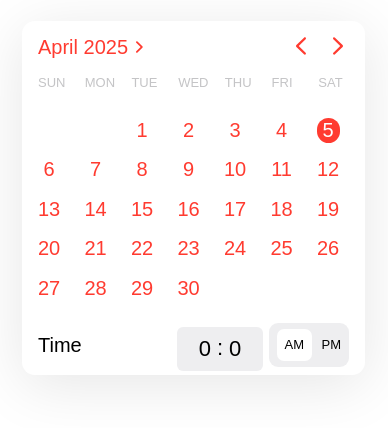
Test: Calendar › Should changeMonth with value === prev when user click to prev month
This screenshot has width=388, height=428.
Click the button with test id "prev-month" at (301, 47), box [290,36,312,59]
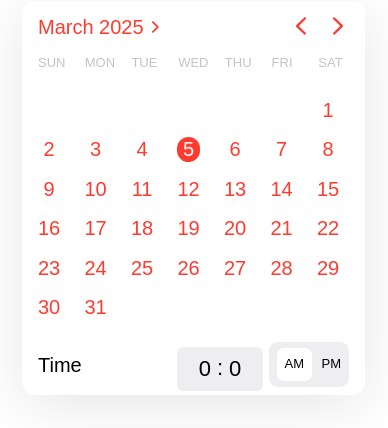
Expected: the text with test id "current-month" reads "March 2025", [38,16,144,38]
